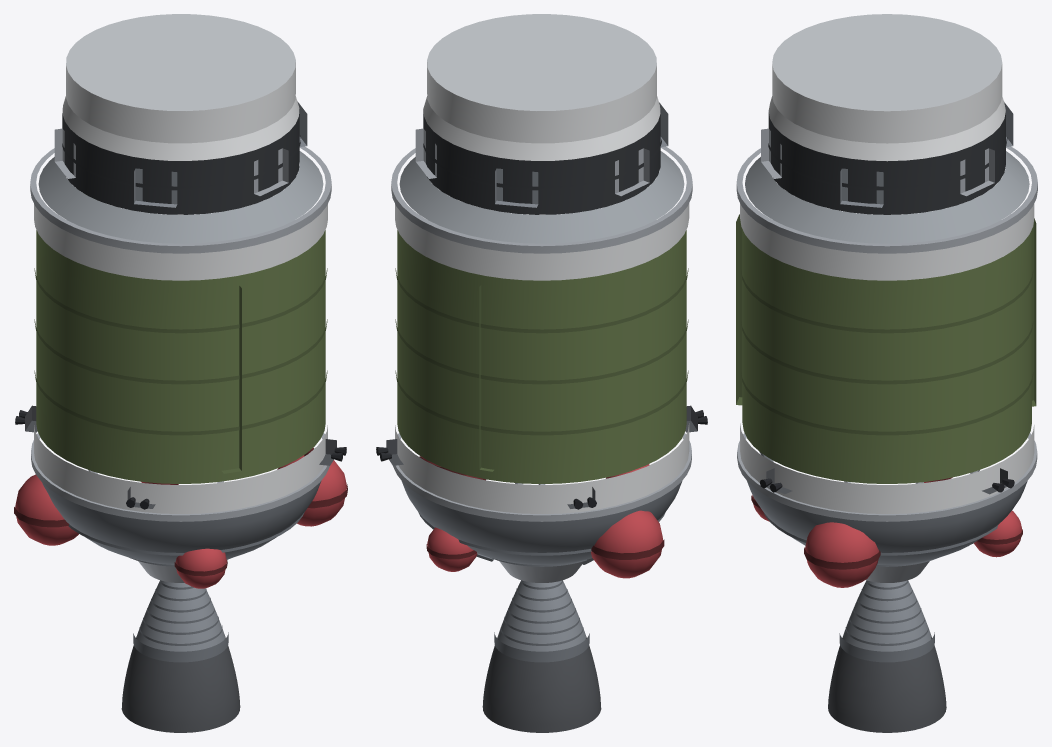
File: delta2-stage.glb
3 renders of one model, left to right at view 1: azimuth 30°, elevation 25°; view 2: azimuth 150°, elevation 25°; view 3: azimuth 270°, elevation 25°, orthographic.
Parts seen in each view (by area): view 1: body; view 2: body, foil; view 3: body, foil.
Part boxes in pixels (box(x1,y1,x2,y2)): body: box(14, 14, 347, 732); body: box(376, 14, 707, 732); foil: box(499, 561, 582, 582); body: box(736, 14, 1037, 732); foil: box(866, 561, 929, 582).
Bounding box in the file's own units: 2.72 × 6 × 2.54.
